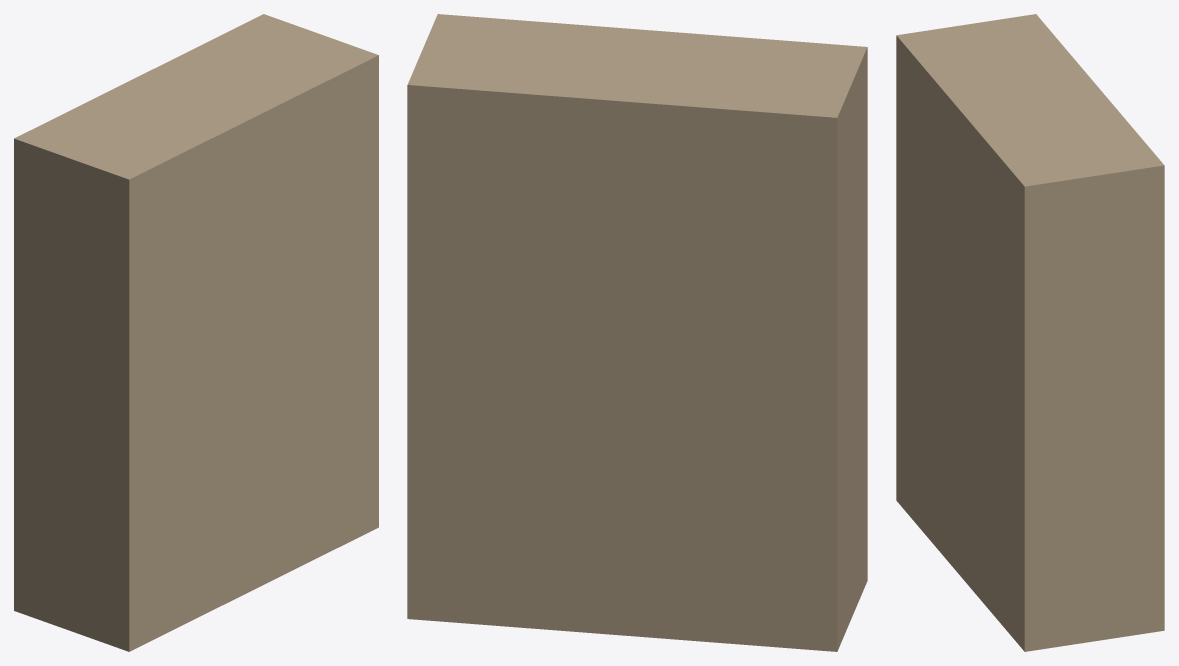
The model's file is bld_108162083.dae.
The picture shows the model from 3 angles, left to right: view 1: azimuth 30°, elevation 25°; view 2: azimuth 150°, elevation 25°; view 3: azimuth 270°, elevation 25°; orthographic projection. The views are drawn at different scales.
Visible parts, largest first — view 1: bld_108162083; view 2: bld_108162083; view 3: bld_108162083.
Boxes of the visible parts, x1,y1,x2,y2 form: bld_108162083: (14, 14, 378, 651); bld_108162083: (407, 14, 867, 651); bld_108162083: (896, 14, 1164, 651).
Bounding box in the file's own units: 6.37 × 4.18 × 8.
